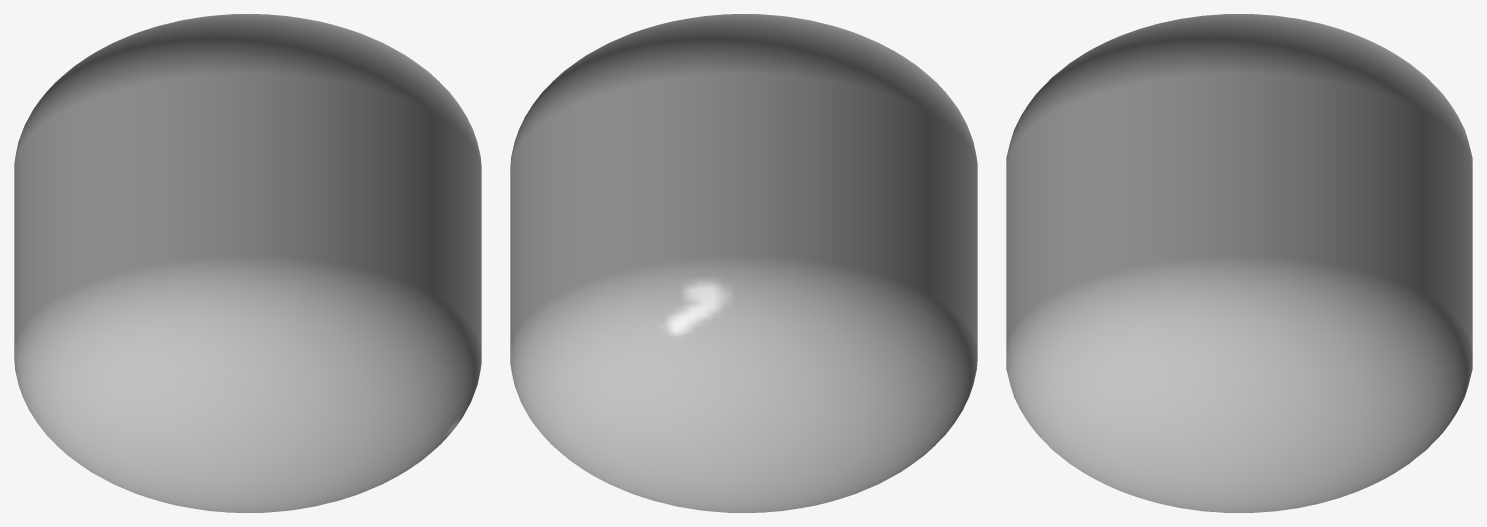
3 views of the same model, side by side, from view 1: azimuth 30°, elevation 25°; view 2: azimuth 150°, elevation 25°; view 3: azimuth 270°, elevation 25° (orthographic).
Parts seen in each view (by area): view 1: object; view 2: object; view 3: object.
Part boxes in pixels (<box>): object: <box>14,14,481,512</box>; object: <box>510,14,977,512</box>; object: <box>1006,14,1472,512</box>.
Size of the model in its own units: 199 by 202 by 199.
1 material, 1 textured.
